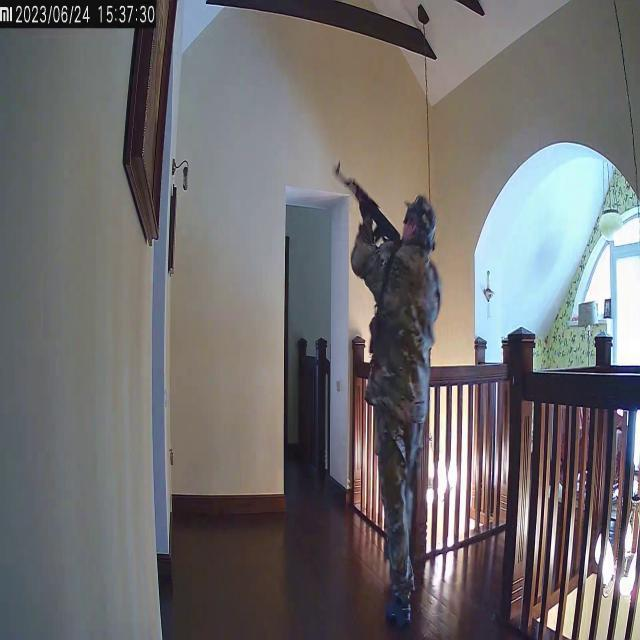pistol: (334, 152, 402, 248)
